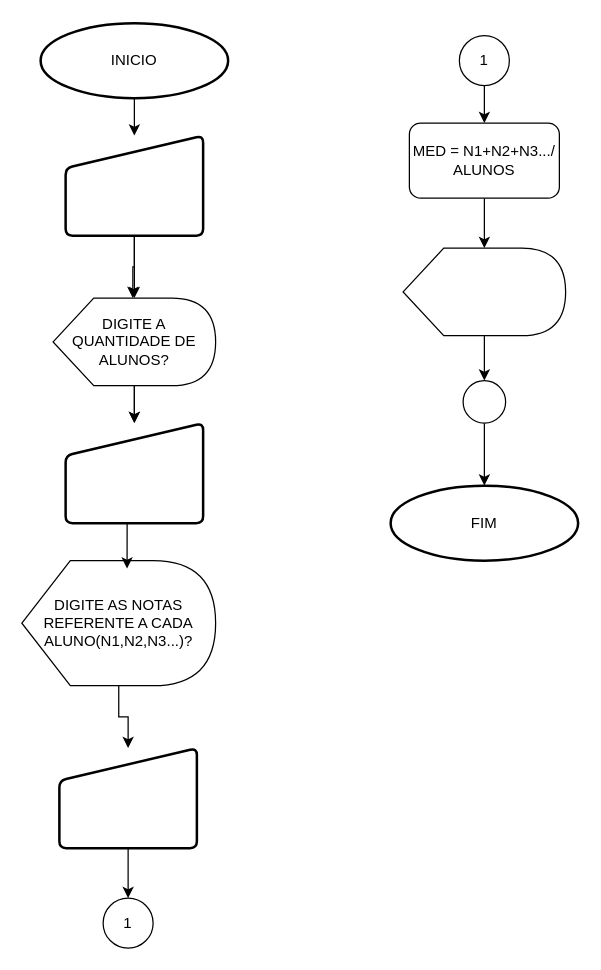
Some shapes in this 601 by 970 pixel diagram are drawn without their labels. Here are the shapes that lost their labels. From the top down, the centre of each, then its label:
At [134,185]: "LEITURA DE DADOS".
At [484,291]: "IMPRIMA A MEDIA".
At [134,472]: "ALUNOS".
At [128,797]: "NOTAS".
